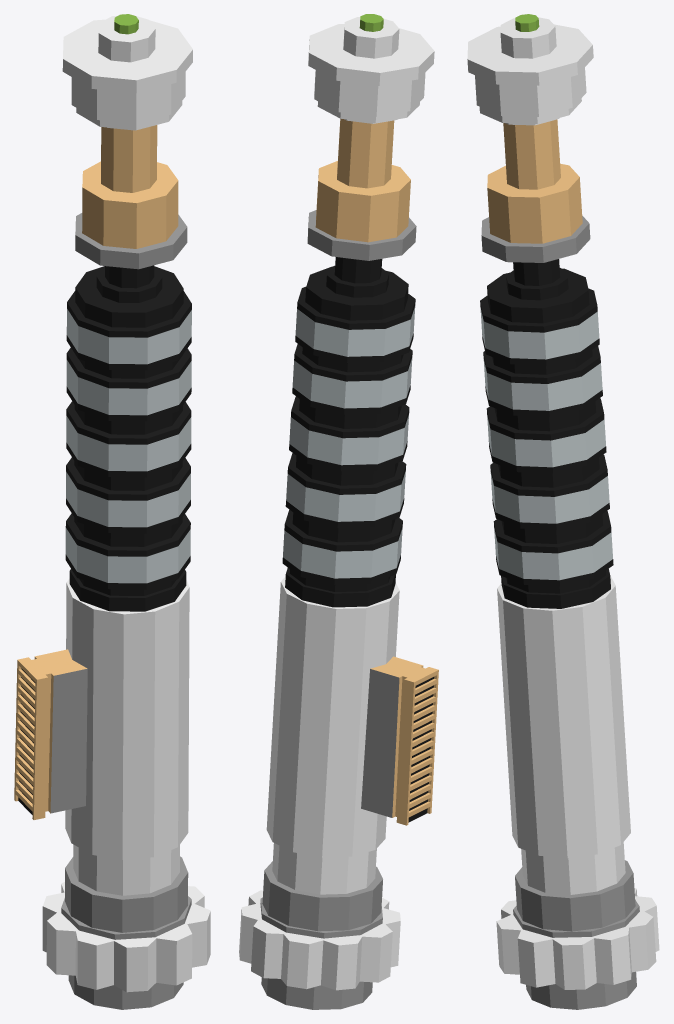
The model's file is lightsaber.glb.
The picture shows the model from 3 angles, left to right: view 1: azimuth 30°, elevation 25°; view 2: azimuth 150°, elevation 25°; view 3: azimuth 270°, elevation 25°; orthographic projection. The views are drawn at different scales.
Visible parts, largest first — view 1: group646054588; view 2: group646054588; view 3: group646054588.
Boxes of the visible parts, bbox=[...] form: group646054588: bbox=[14, 14, 210, 1009]; group646054588: bbox=[239, 14, 438, 1009]; group646054588: bbox=[467, 14, 659, 1009].
Size of the model in its own units: 0.0354 by 0.1879 by 0.0341.
